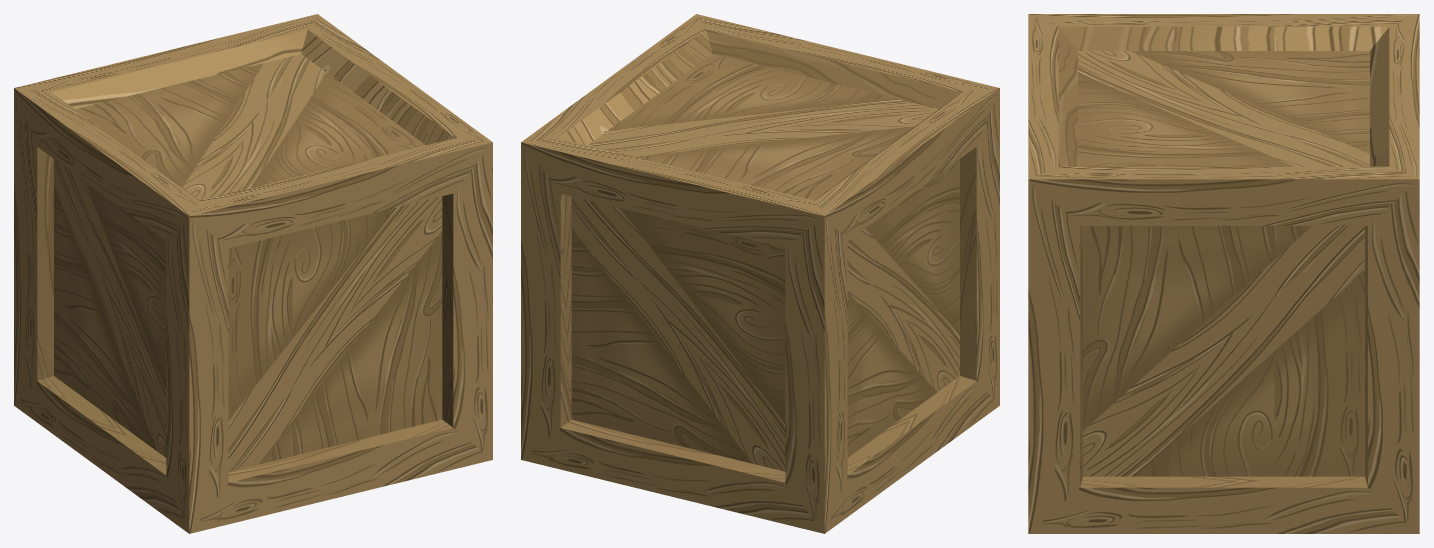
File: Mimic_Mayhem_Crate1.FBX
3 views of the same model, side by side, from view 1: azimuth 30°, elevation 25°; view 2: azimuth 150°, elevation 25°; view 3: azimuth 270°, elevation 25° (orthographic). The views are drawn at different scales.
Parts seen in each view (by area): view 1: Box002; view 2: Box002; view 3: Box002.
Part boxes in pixels (box(x1,y1,x2,y2)): Box002: box(14, 14, 492, 533); Box002: box(521, 14, 999, 533); Box002: box(1028, 14, 1419, 533).
Bounding box in the file's own units: 11 × 11 × 11.
